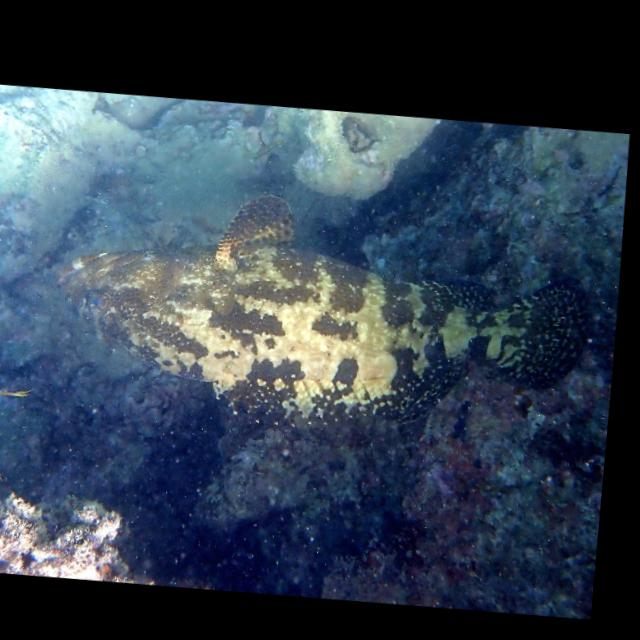Groupers: (35, 163, 592, 459)
